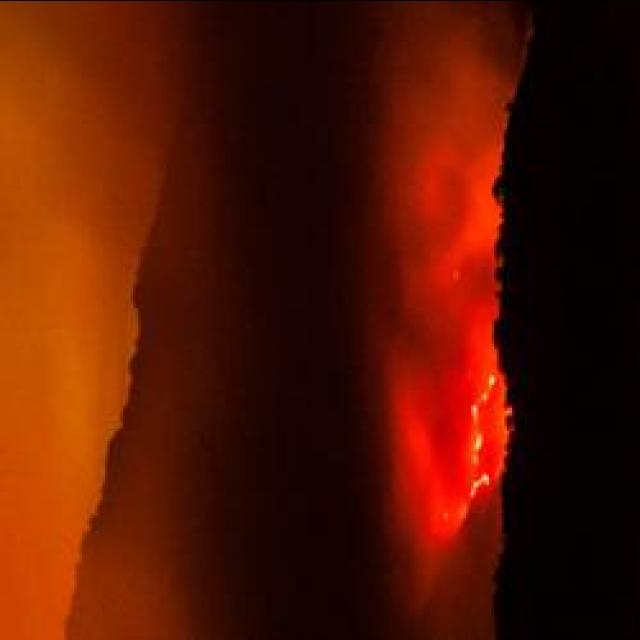fire: (472, 430, 484, 454), (476, 477, 490, 482)
smoke: (357, 1, 520, 110), (391, 536, 483, 640), (402, 142, 492, 246)
